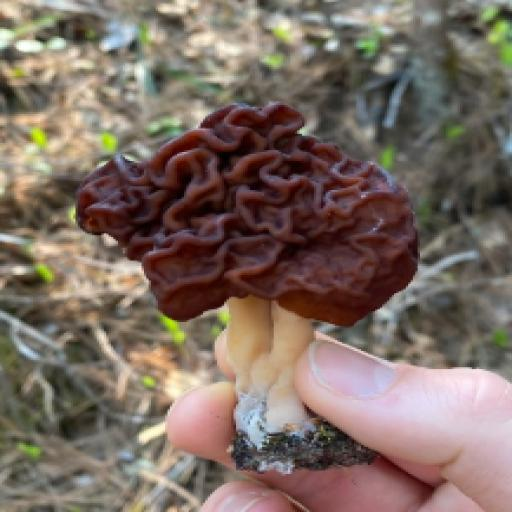mushroom: (47, 34, 482, 468)
